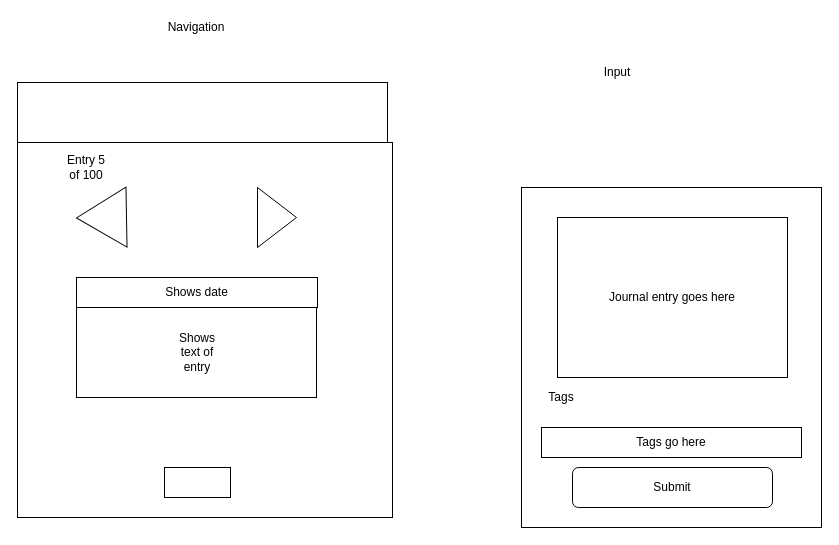
Some shapes in this 839 by 545 pixel diagram are drawn without their labels. The shapes that lost their labels are listed below. From the top down, each one's centre as x and y in pixels, then its label:
At pixel 202 112: "Tag filter goes here".
At pixel 197 482: "delete".
